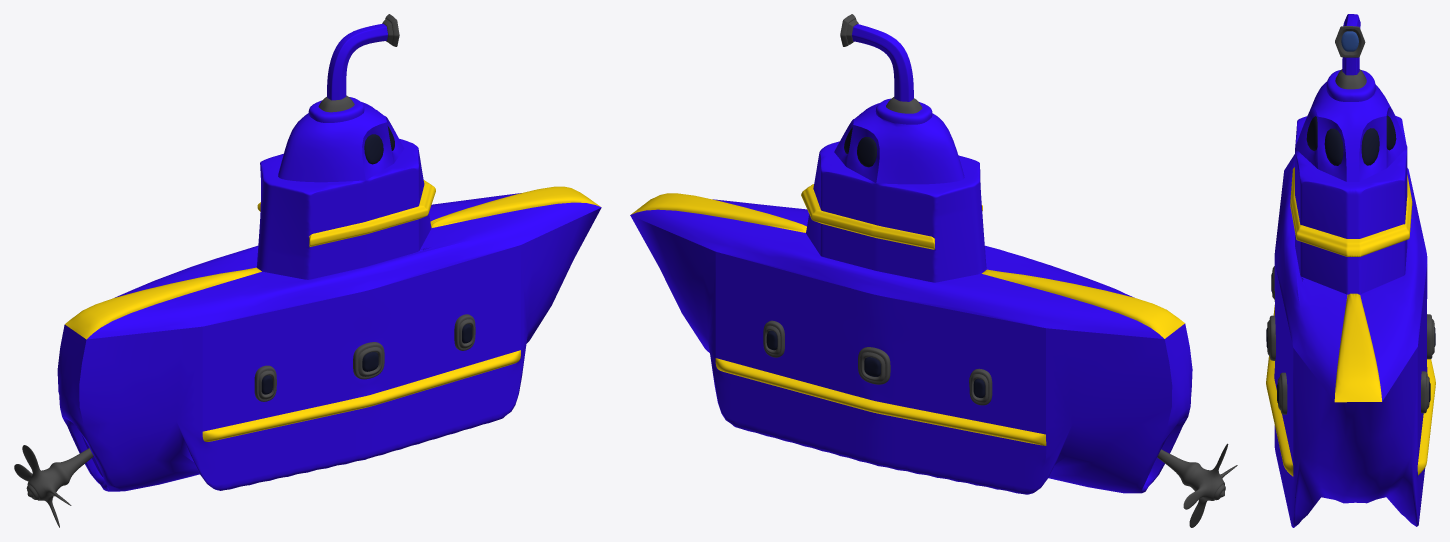
The model's file is Deep Blue Sub.obj.
The picture shows the model from 3 angles, left to right: view 1: azimuth 30°, elevation 25°; view 2: azimuth 150°, elevation 25°; view 3: azimuth 270°, elevation 25°; orthographic projection. The views are drawn at different scales.
Visible parts, largest first — view 1: Deep_Blue_Sub, new propeller; view 2: Deep_Blue_Sub, new propeller; view 3: Deep_Blue_Sub, new propeller.
Part boxes in pixels (left/top/right/bottom): Deep_Blue_Sub: left=14, top=14, right=601, bottom=527; new propeller: left=308, top=14, right=398, bottom=122; Deep_Blue_Sub: left=630, top=16, right=1237, bottom=527; new propeller: left=841, top=14, right=932, bottom=124; Deep_Blue_Sub: left=1266, top=14, right=1435, bottom=527; new propeller: left=1326, top=14, right=1375, bottom=101.
Bounding box in the file's own units: 8.33 × 5.91 × 1.89.
